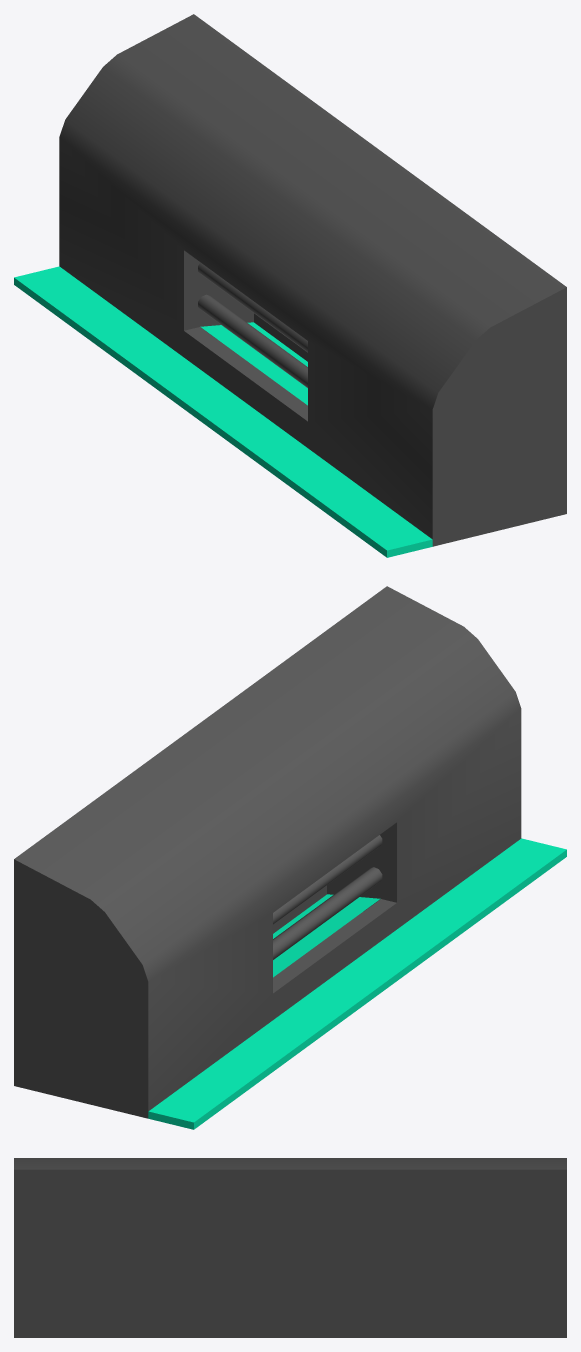
The model's file is CorridorDownPillar_02.fbx.
3 views of the same model, one above another, from view 1: azimuth 30°, elevation 25°; view 2: azimuth 150°, elevation 25°; view 3: azimuth 270°, elevation 25° (orthographic). The views are drawn at different scales.
Visible parts, largest first — view 1: Box027, CorridorDownPillar_02, LightReja003; view 2: Box027, CorridorDownPillar_02, LightReja003; view 3: Box027.
Part boxes in pixels (x1=…): Box027: x1=59, y1=14, x2=566, y2=546; CorridorDownPillar_02: x1=14, y1=266, x2=432, y2=557; LightReja003: x1=200, y1=322, x2=307, y2=405; Box027: x1=14, y1=586, x2=521, y2=1118; CorridorDownPillar_02: x1=148, y1=838, x2=566, y2=1129; LightReja003: x1=273, y1=894, x2=380, y2=977; Box027: x1=14, y1=1158, x2=566, y2=1337.
Size of the model in its own units: 32.88 by 118 by 39.61.
